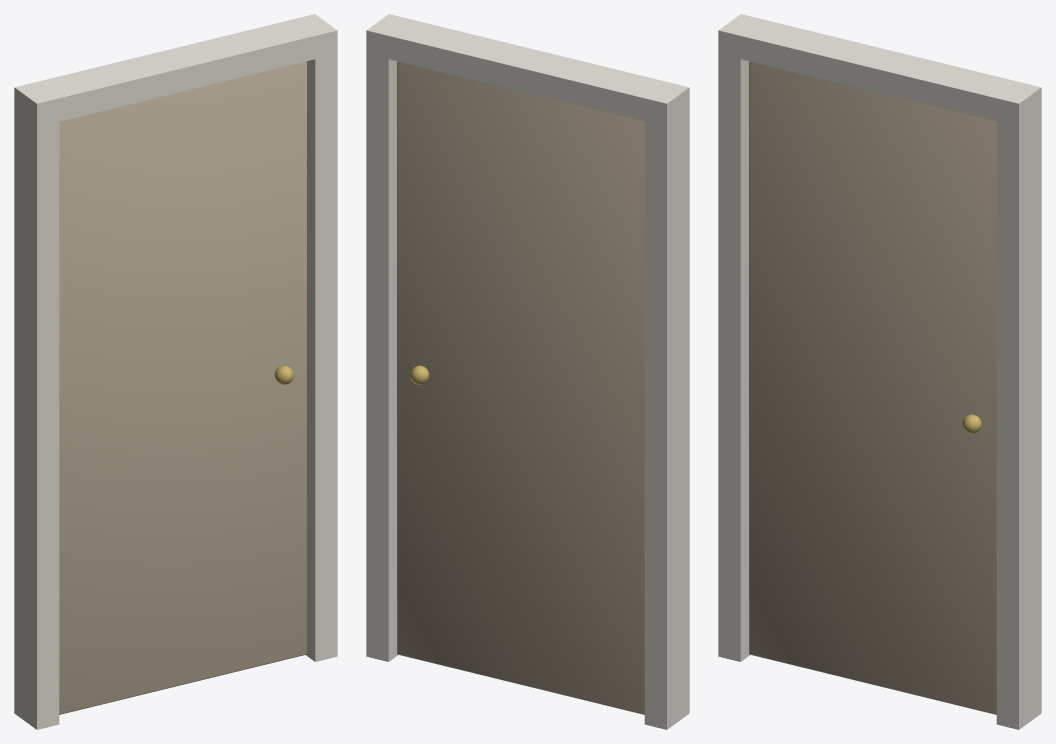
Rendered from door_wood.glb.
The picture shows the model from 3 angles, left to right: view 1: azimuth 30°, elevation 25°; view 2: azimuth 150°, elevation 25°; view 3: azimuth 330°, elevation 25°; orthographic projection.
Parts seen in each view (by area): view 1: leaf, frame; view 2: leaf, frame; view 3: leaf, frame.
Part boxes in pixels (<box>): leaf: <box>59,61,306,714</box>; frame: <box>14,14,337,729</box>; leaf: <box>397,61,644,714</box>; frame: <box>366,14,689,729</box>; leaf: <box>749,61,996,714</box>; frame: <box>718,14,1041,729</box>.
Size of the model in its own units: 1.08 by 2.15 by 0.16.
